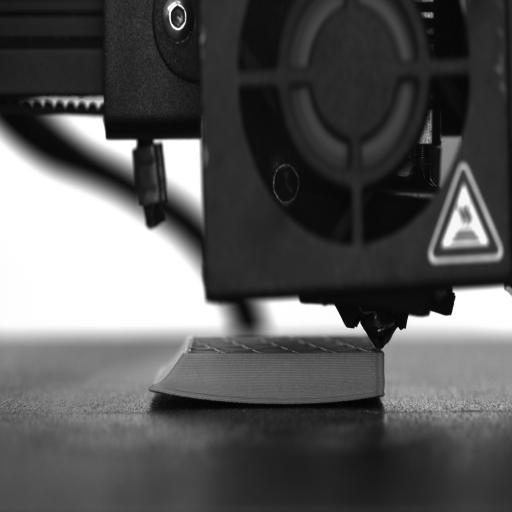warp: (146, 378, 227, 412), (353, 382, 389, 408)
